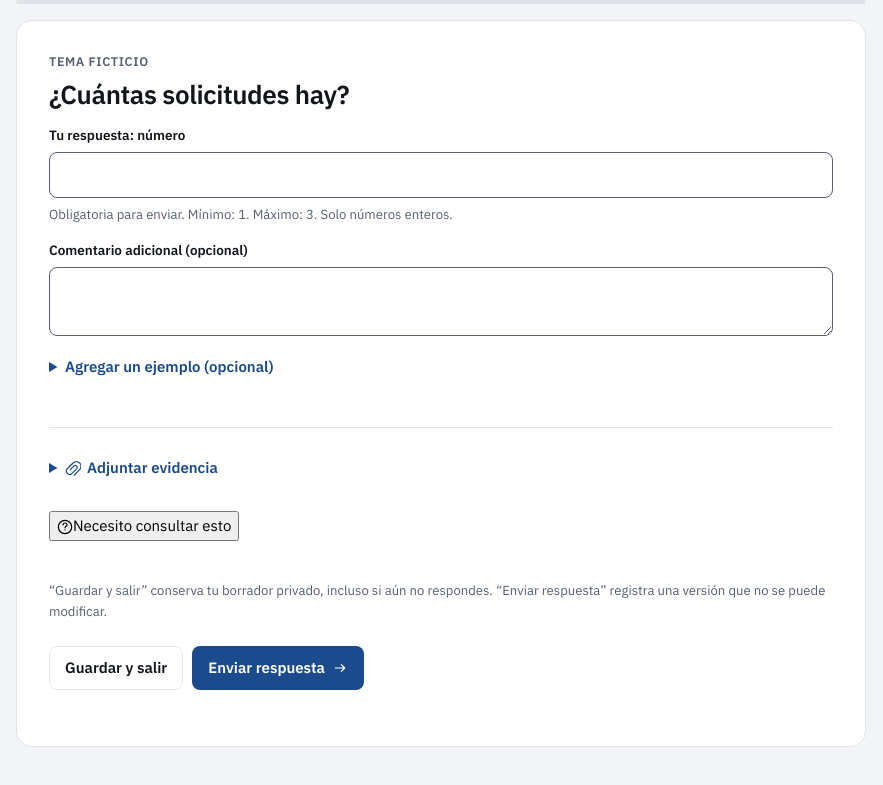
Test: un error de campo no agrega resumen; al corregirlo desaparece y vuelve a Cambios sin guardar
Type "8" into the field labelled "Tu respuesta: número" at [441, 175], box [49, 152, 833, 198]
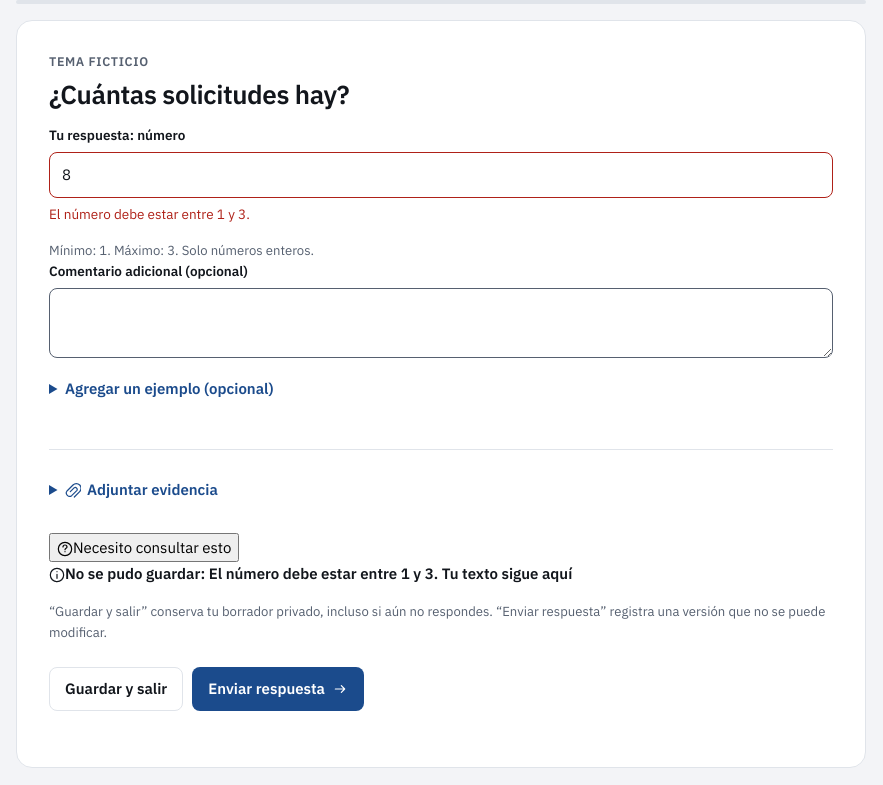
Result: the text "No se pudo guardar:" shows "El número debe estar entre 1 y 3. Tu texto sigue aquí" at [65, 564, 572, 583]
Result: the 3rd icon is shown at [49, 567, 65, 583]
Replace the text in the field labelled "Tu respuesta: número" with "2" at [441, 175], box [49, 152, 833, 198]
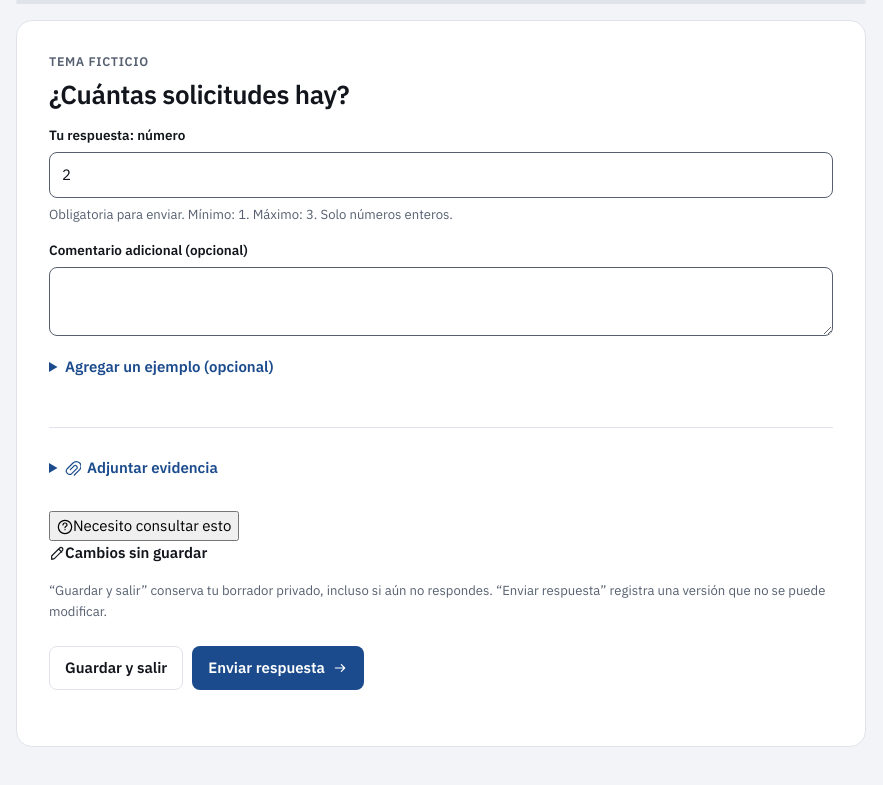
Result: the icon next to "Cambios sin guardar" is shown at [49, 546, 65, 562]
Result: the text "El número debe estar entre 1 y 3." is gone
Result: the text "Cambios sin guardar" is shown at [65, 542, 207, 562]
